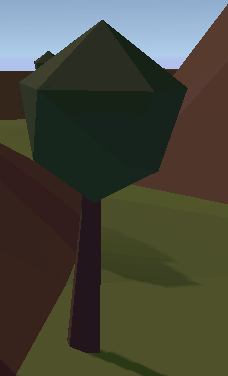tree: (20, 19, 189, 355)
